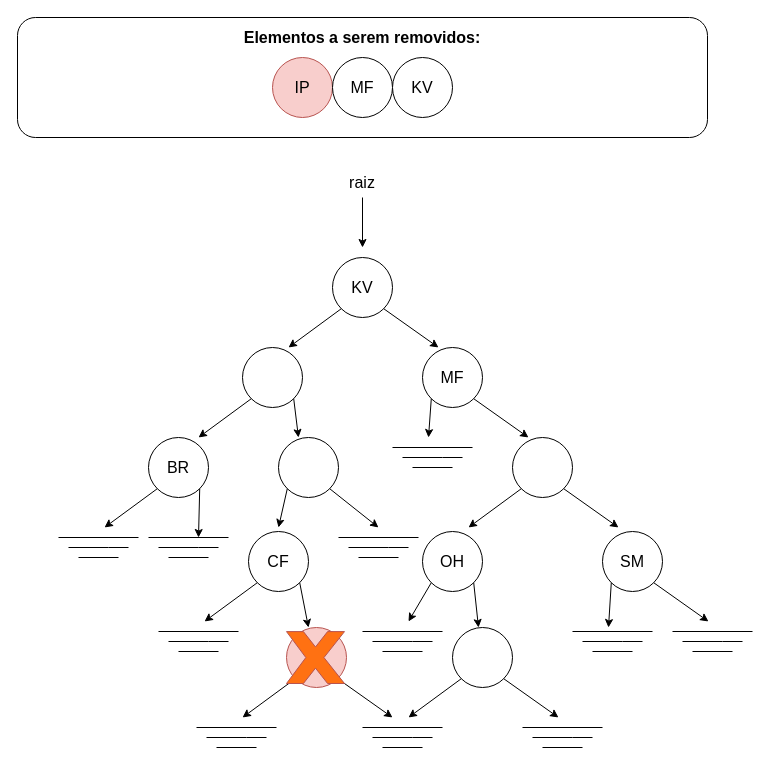
This 771x766 diagram has some shape labels left out. The centre of each missing label's shape, as x and y in pixels:
BT: point 272,377
KA: point 308,467
OI: point 482,657
SA: point 542,467
